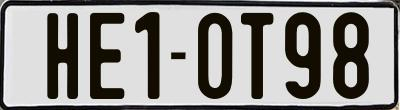0: (197, 10, 235, 96)
1: (132, 11, 157, 99)
8: (331, 12, 367, 102)
9: (285, 10, 324, 97)
E: (89, 12, 125, 101)
H: (45, 11, 82, 98)
T: (240, 10, 276, 101)
